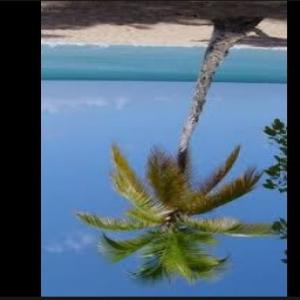palm tree: (75, 141, 286, 285)
